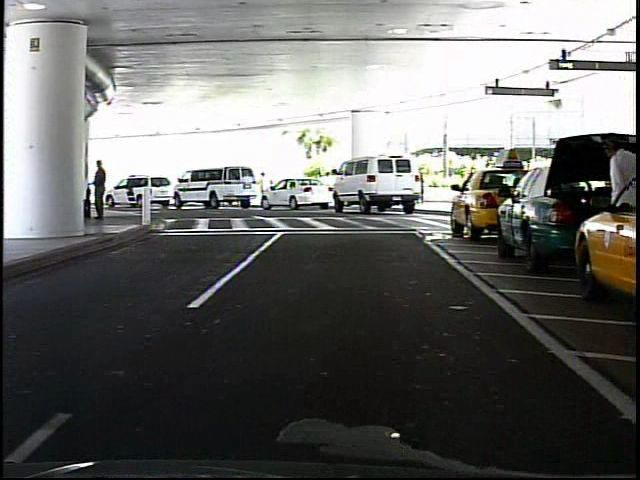person: (595, 132, 639, 284), (94, 157, 113, 224), (257, 170, 273, 206)
